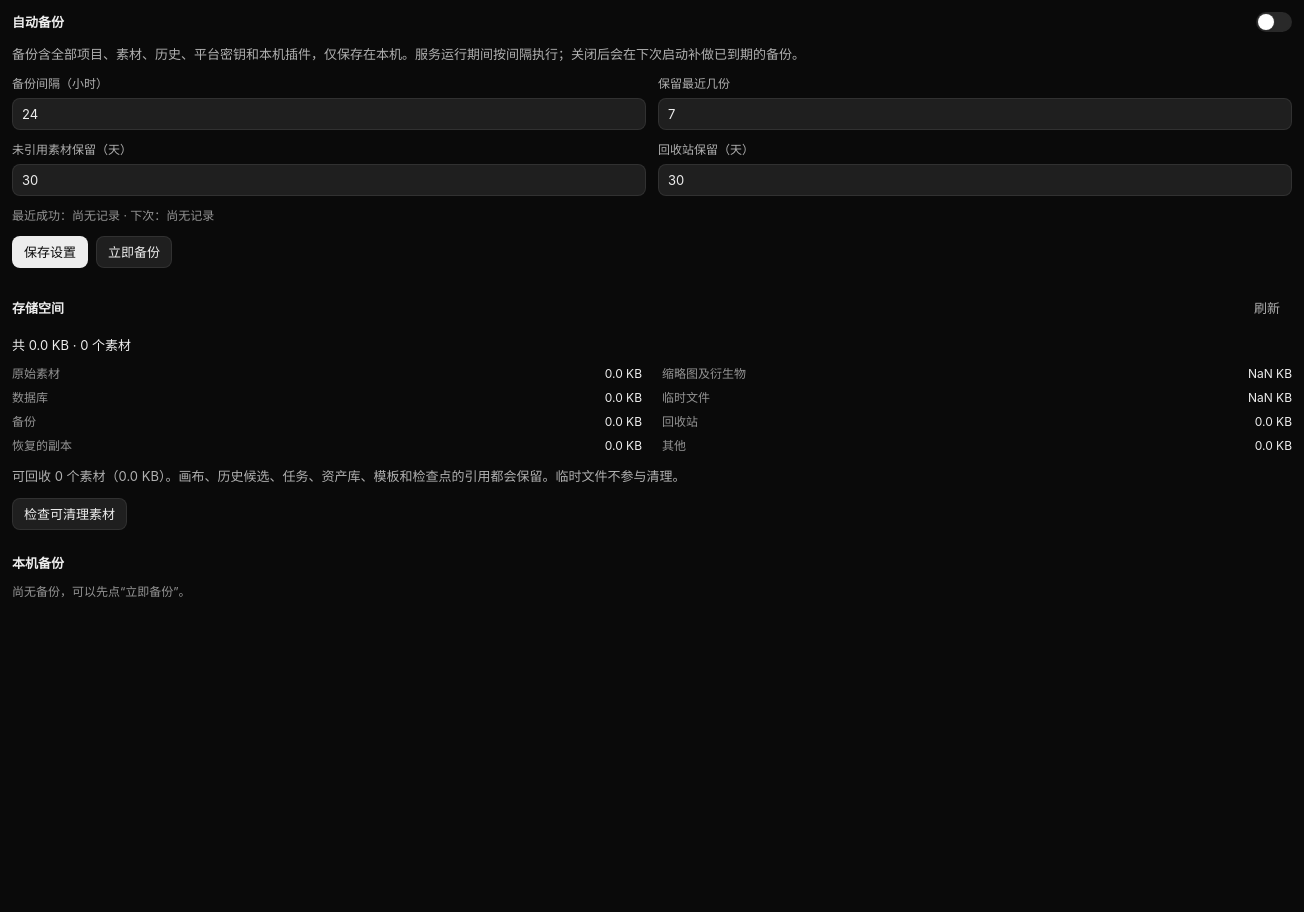
Test: 维护设置的数值编辑 › 保存失败保留草稿与错误，改正后能真正保存
Replace the text in the number field labelled "备份间隔（小时）" with "12" at [329, 114], box [12, 98, 646, 130]
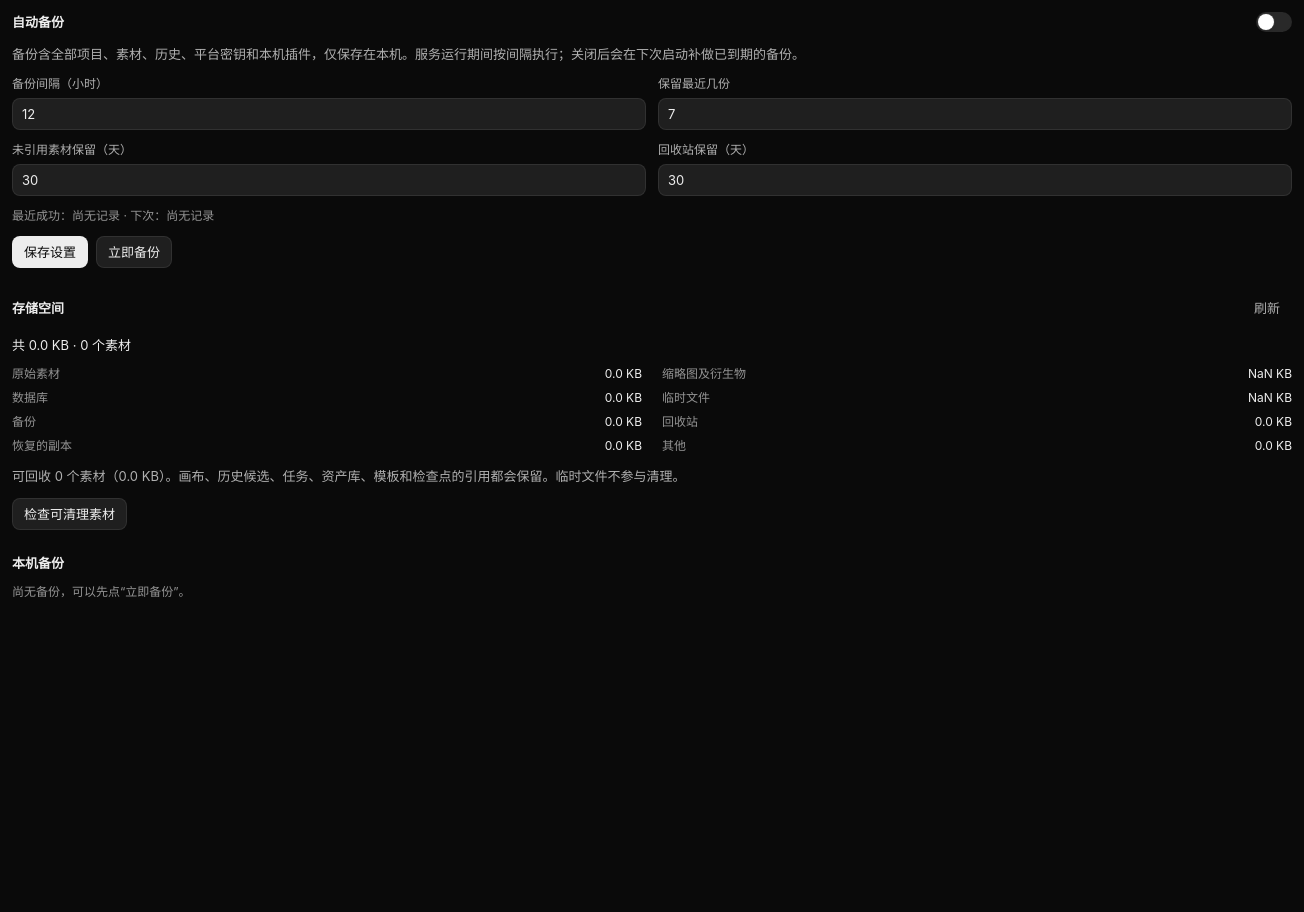
Click the button "保存设置" at [50, 252], box [12, 236, 88, 268]
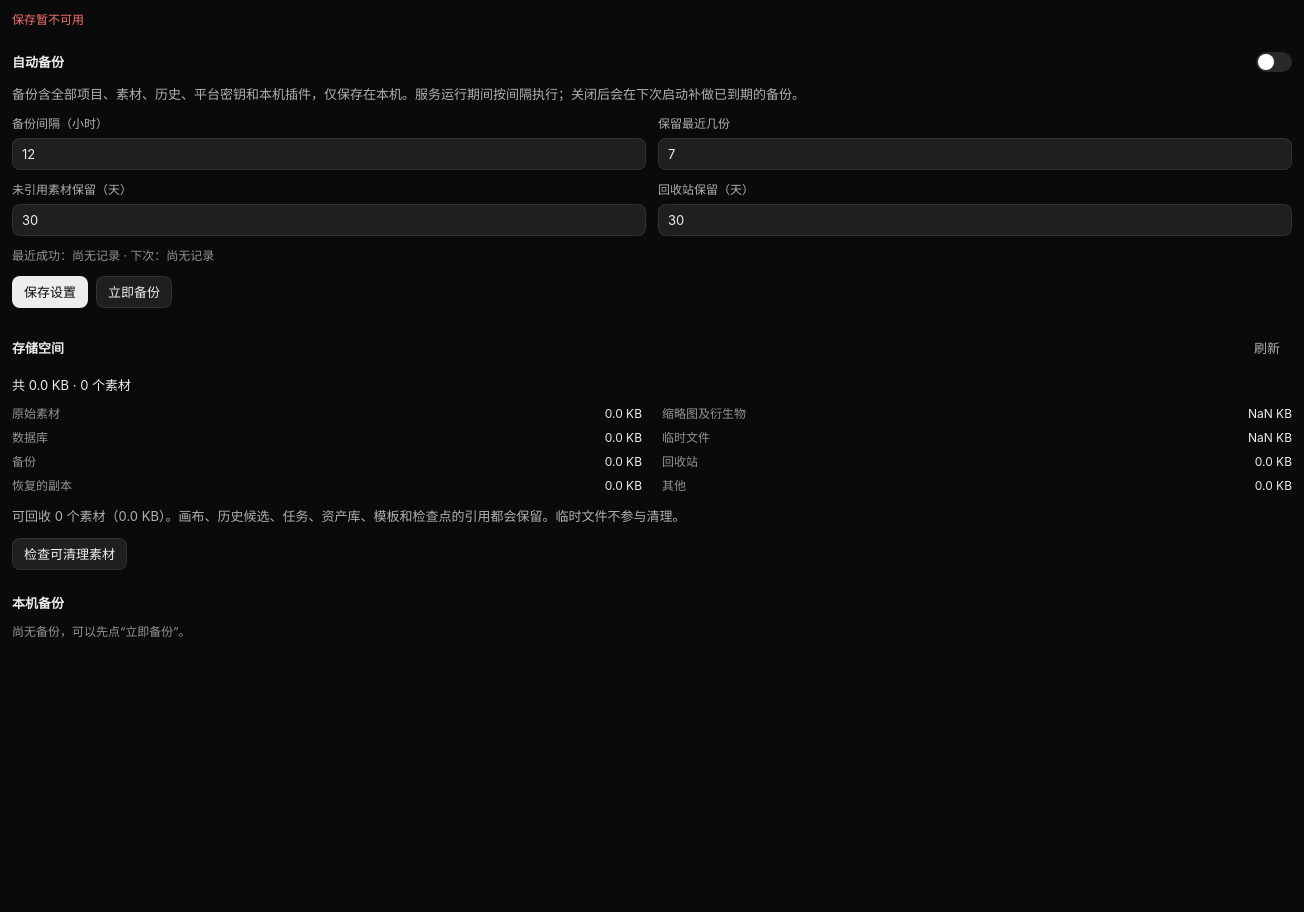
Now the message reads "保存暂不可用", box [12, 12, 84, 27]
Click the button "保存设置" at [50, 292], box [12, 276, 88, 308]
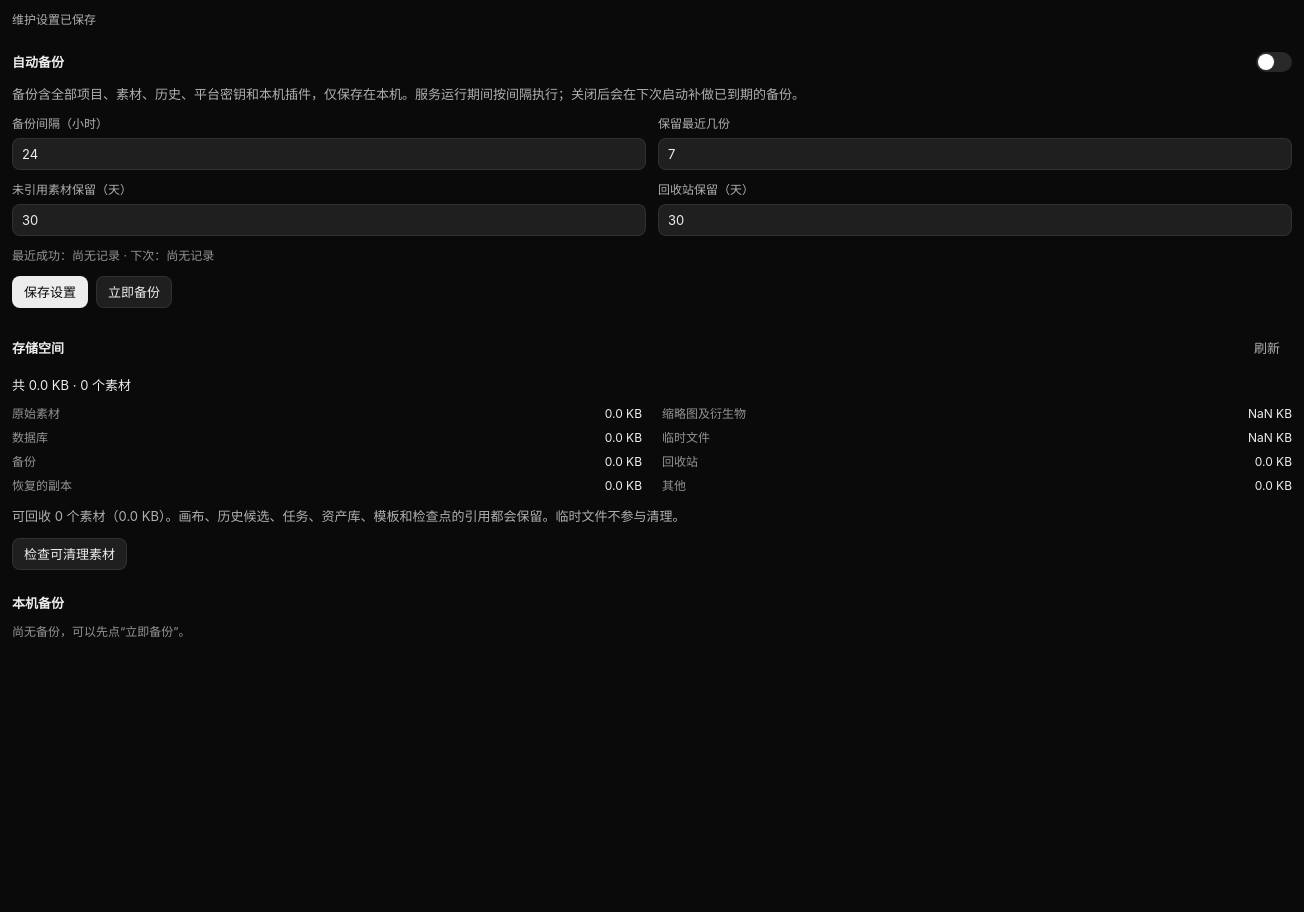
Now the message reads "维护设置已保存", box [12, 12, 96, 27]
